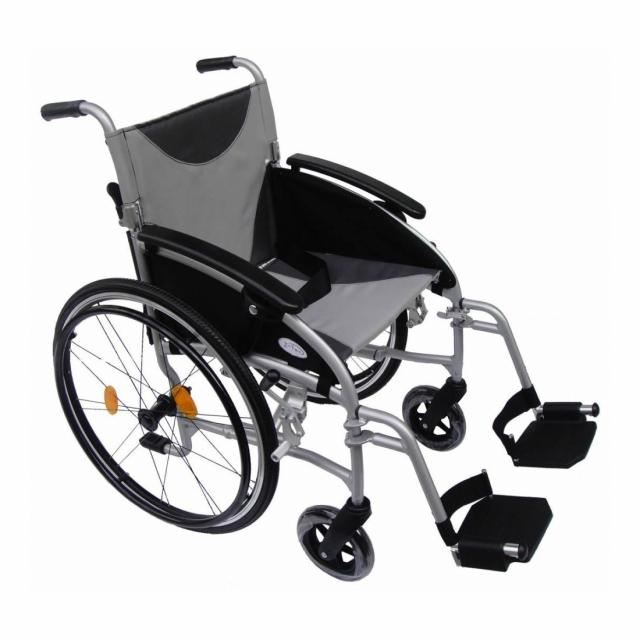wheelchair: (38, 46, 612, 598)
